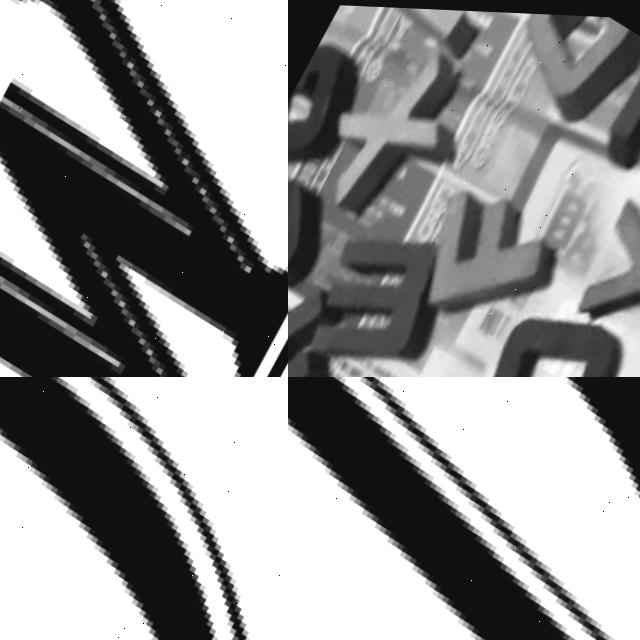D: (288, 377, 640, 640), (450, 276, 640, 377)
E: (288, 266, 384, 377)
F: (397, 170, 570, 342)
G: (288, 22, 385, 187)
I: (585, 37, 640, 212)
R: (379, 5, 520, 54)
S: (288, 157, 343, 339)
W: (0, 0, 288, 377), (288, 205, 456, 377)
X: (292, 23, 492, 245)
Y: (556, 190, 640, 364)
